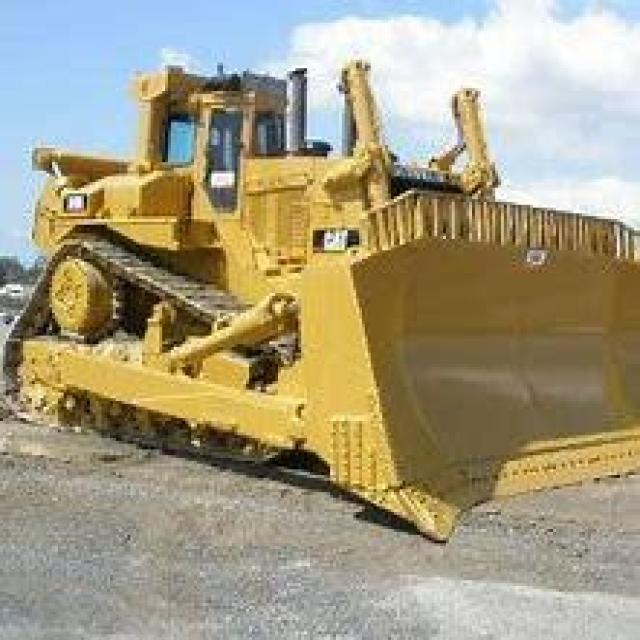buldozerpayloadergrader: (9, 43, 637, 549)
